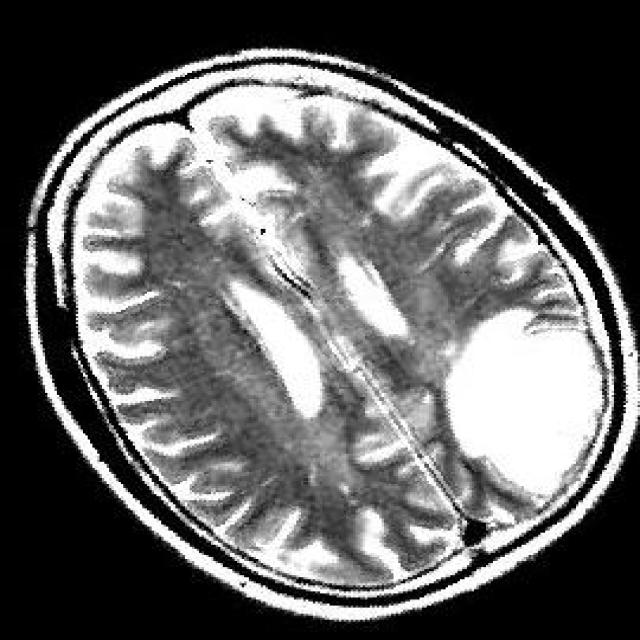Tumor-Cell: (444, 315, 614, 489)
